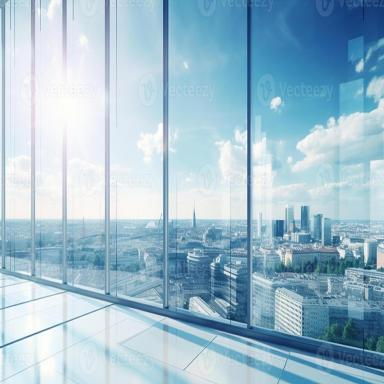glass_panel: (253, 0, 365, 270), (169, 0, 246, 318), (112, 2, 162, 301), (66, 2, 106, 287), (37, 2, 63, 279), (10, 2, 32, 272), (0, 1, 8, 259), (1, 1, 7, 263)
